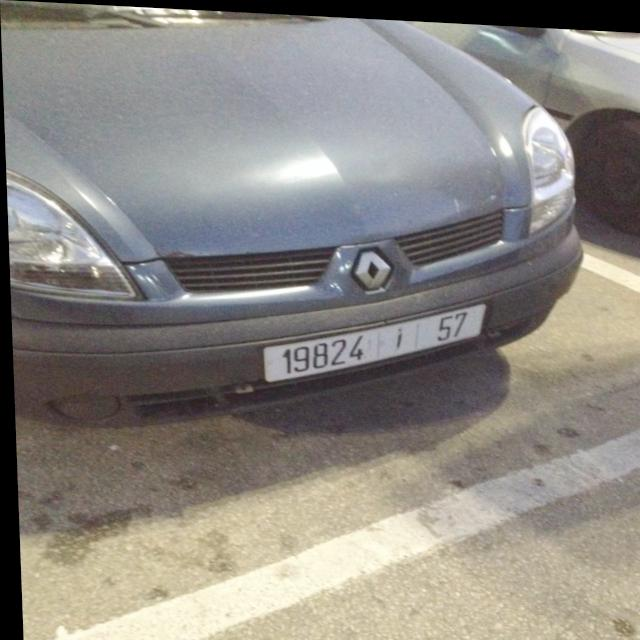License-Plate: (261, 299, 483, 379)
